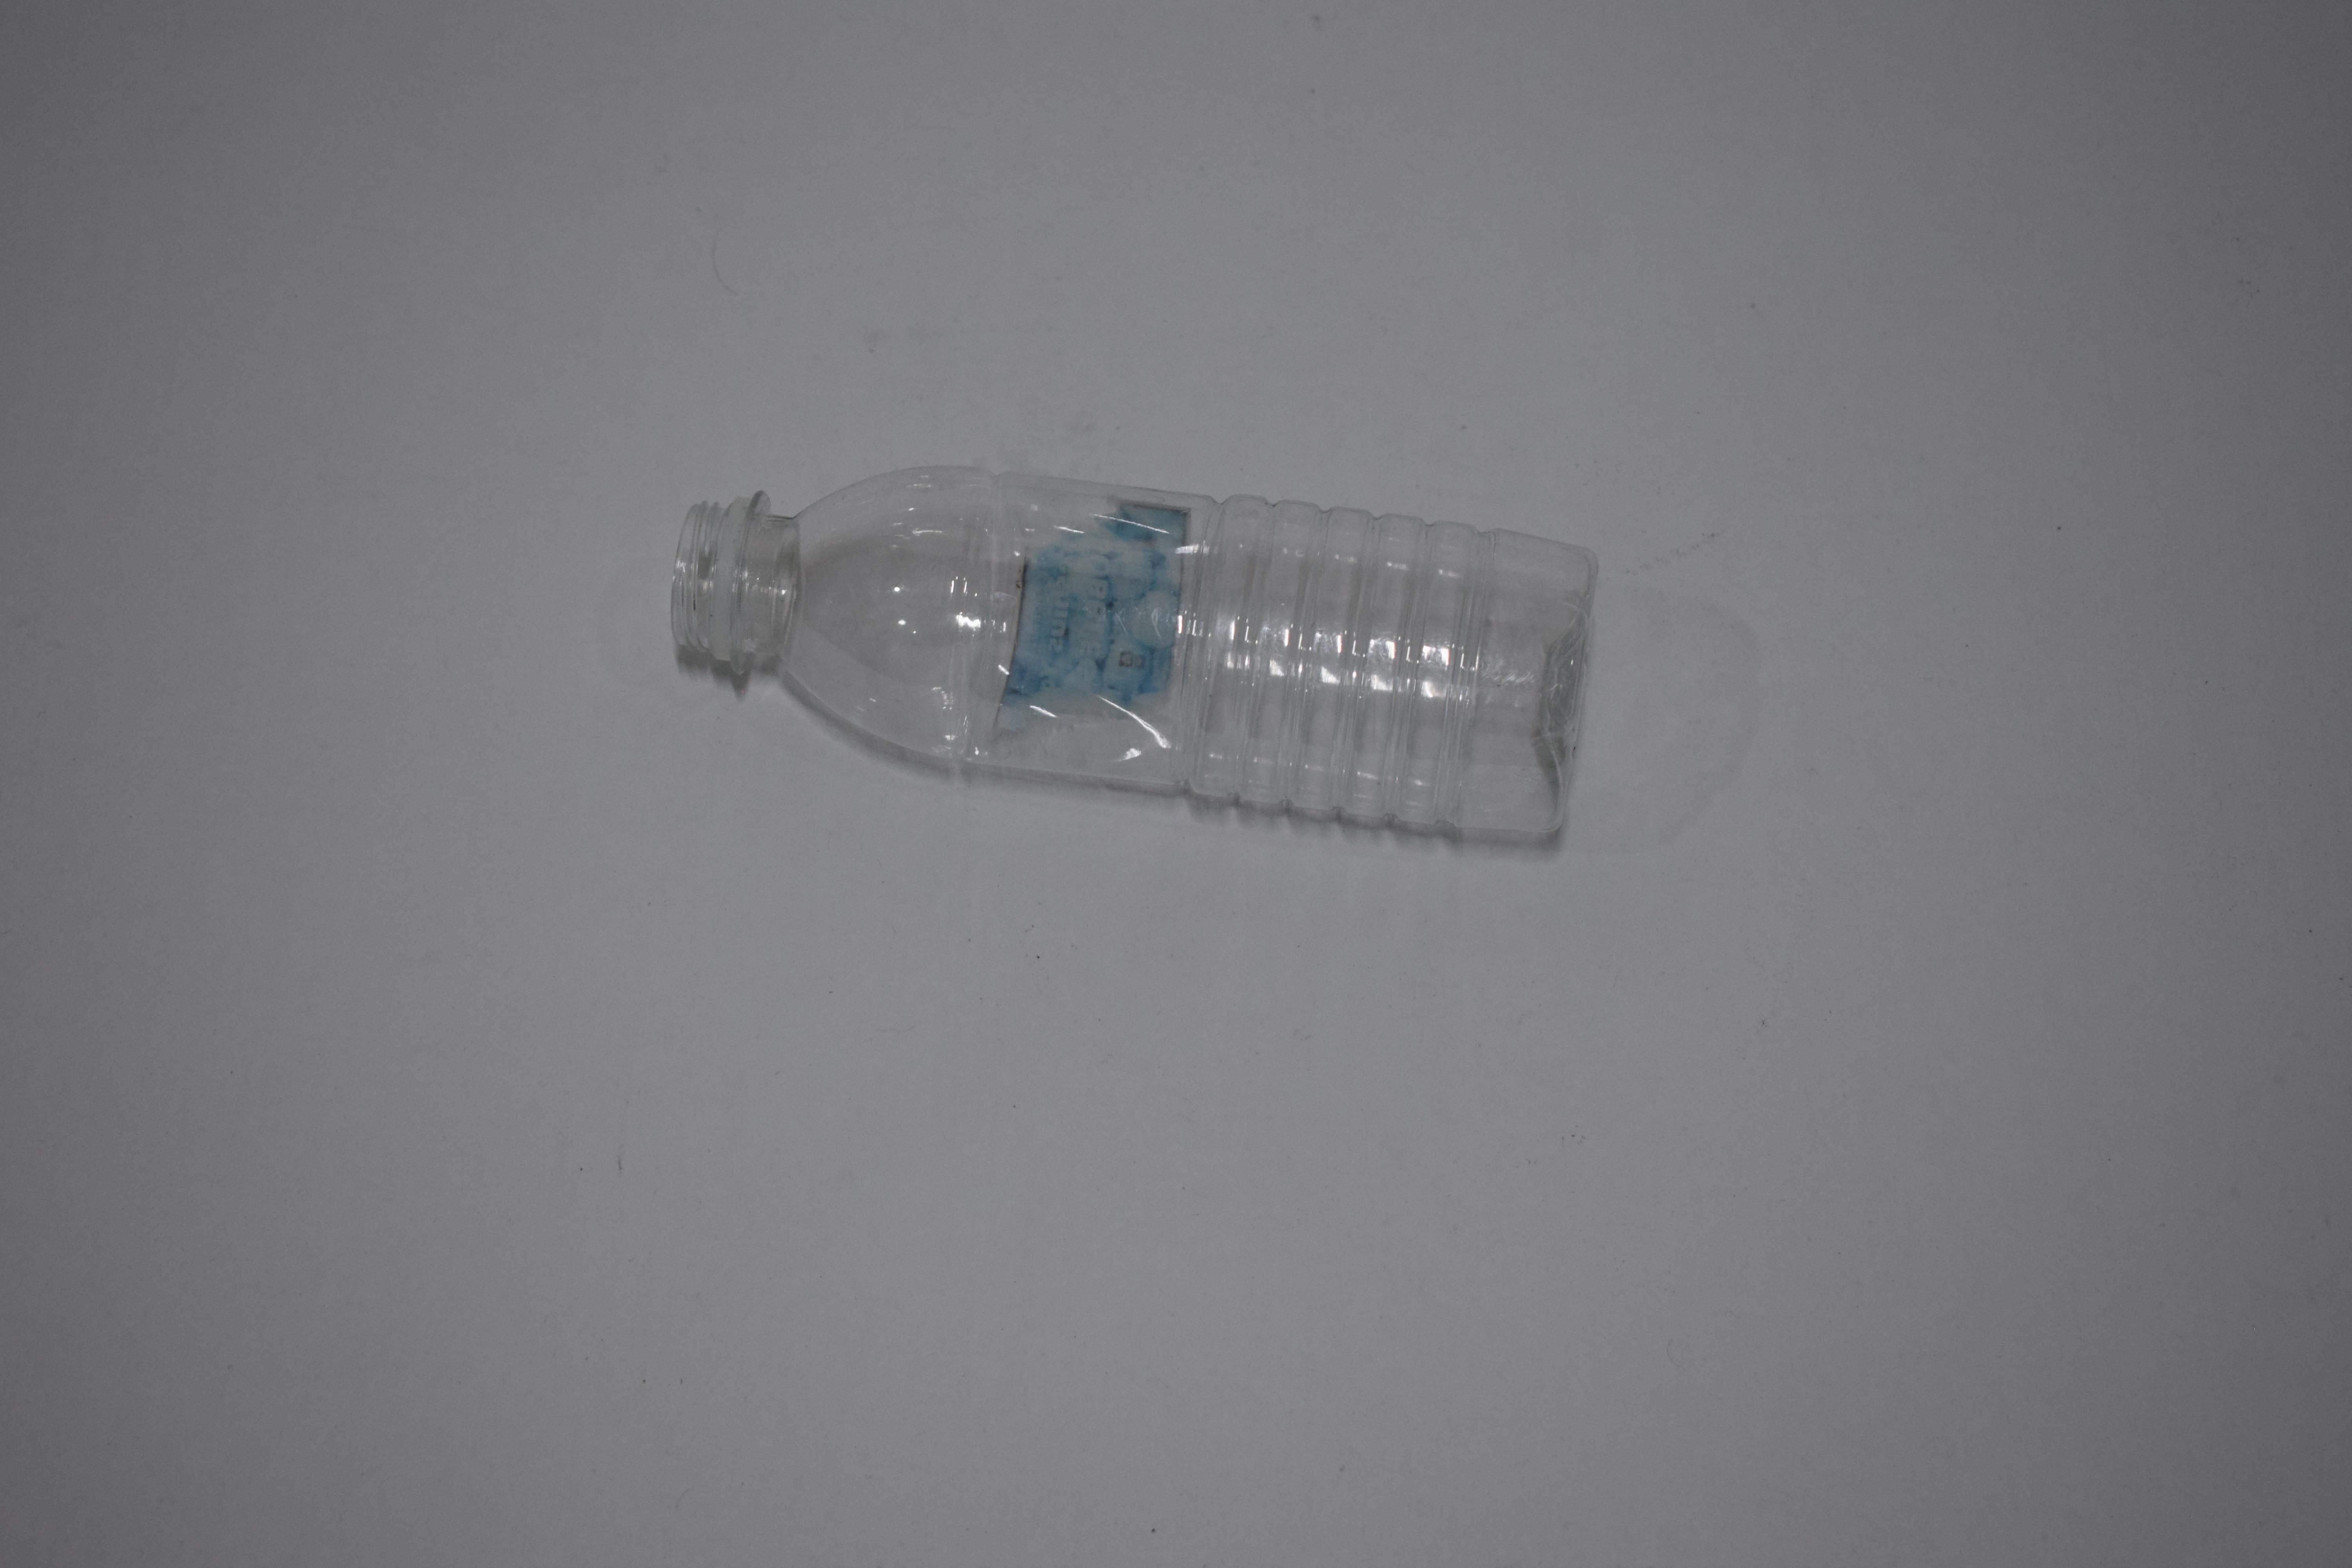bottle: (667, 443, 1607, 866)
